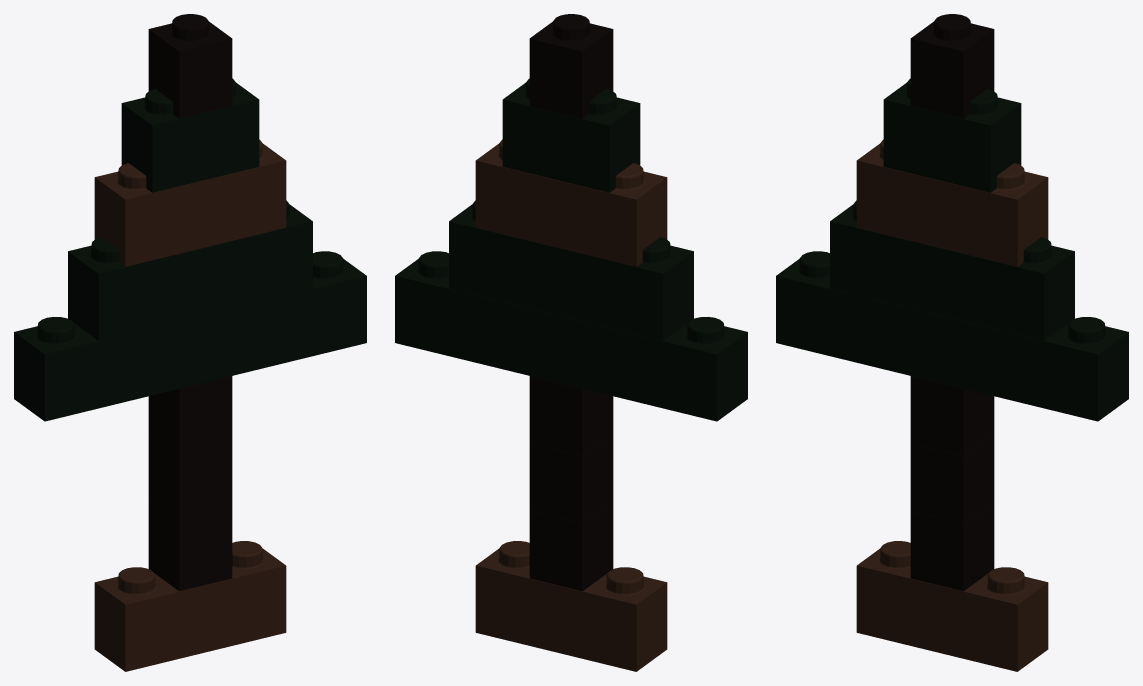
File: Christmas Tree.dae
3 views of the same model, side by side, from view 1: azimuth 30°, elevation 25°; view 2: azimuth 150°, elevation 25°; view 3: azimuth 330°, elevation 25° (orthographic).
Visible parts, largest first — view 1: Part.4, Part.5, Part.0, Part.6, Part.7, Part.8, Part.2, Part.1, Part.3; view 2: Part.4, Part.5, Part.0, Part.6, Part.7, Part.8, Part.2, Part.1, Part.3; view 3: Part.4, Part.5, Part.0, Part.6, Part.7, Part.8, Part.2, Part.1, Part.3.
Boxes of the visible parts, <box> form: Part.4: <box>14,251,366,421</box>; Part.5: <box>68,200,312,340</box>; Part.0: <box>94,541,286,671</box>; Part.6: <box>94,139,286,266</box>; Part.7: <box>121,78,259,192</box>; Part.8: <box>148,14,232,118</box>; Part.2: <box>148,434,232,523</box>; Part.1: <box>148,502,232,591</box>; Part.3: <box>148,376,232,456</box>; Part.4: <box>395,251,747,421</box>; Part.5: <box>449,200,693,340</box>; Part.0: <box>475,541,667,671</box>; Part.6: <box>475,139,667,266</box>; Part.7: <box>502,78,640,192</box>; Part.8: <box>529,14,613,118</box>; Part.2: <box>529,434,613,523</box>; Part.1: <box>529,502,613,591</box>; Part.3: <box>529,376,613,456</box>; Part.4: <box>776,251,1128,421</box>; Part.5: <box>830,200,1074,340</box>; Part.0: <box>856,541,1048,671</box>; Part.6: <box>856,139,1048,266</box>; Part.7: <box>883,78,1021,192</box>; Part.8: <box>910,14,994,118</box>; Part.2: <box>910,434,994,523</box>; Part.1: <box>910,502,994,591</box>; Part.3: <box>910,376,994,456</box>.
Bounding box in the file's own units: 47.92 × 88.18 × 7.92.
